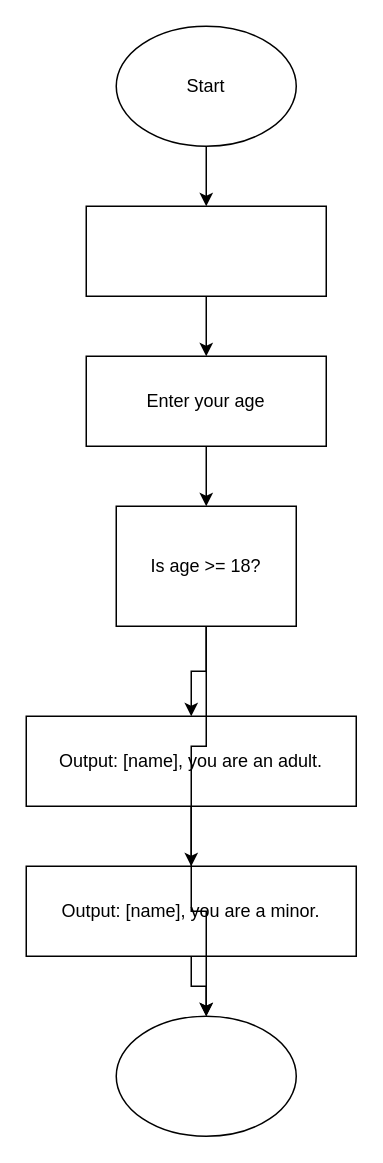
The diagram is 383 pixels wide and 1163 high, and some of its shapes have lost their labels. Each missing label, with the box of its shape:
End: (115, 1015, 296, 1136)
Enter your name: (85, 205, 326, 296)
